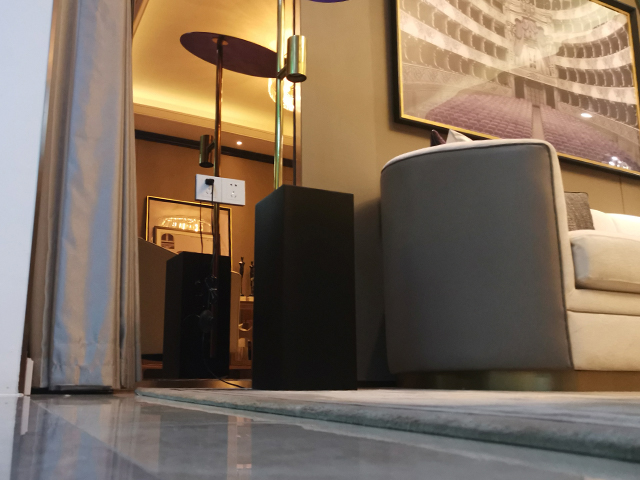carpet: (136, 385, 639, 467)
curtain: (18, 1, 144, 398)
sofa: (378, 127, 640, 393)
wire: (220, 378, 244, 390)
